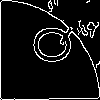Q: (25, 25, 73, 64)
